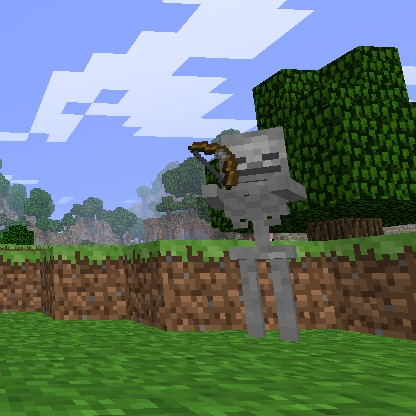skeleton: (201, 125, 307, 230)
